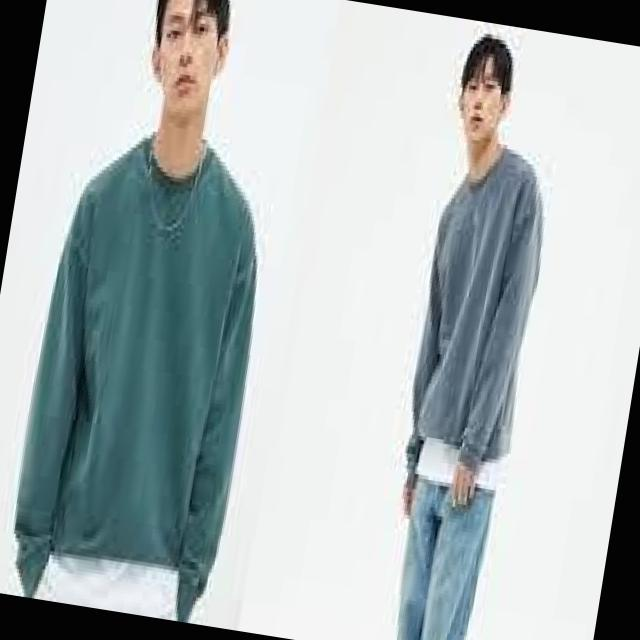sweater: (0, 114, 285, 626), (398, 136, 556, 488)
